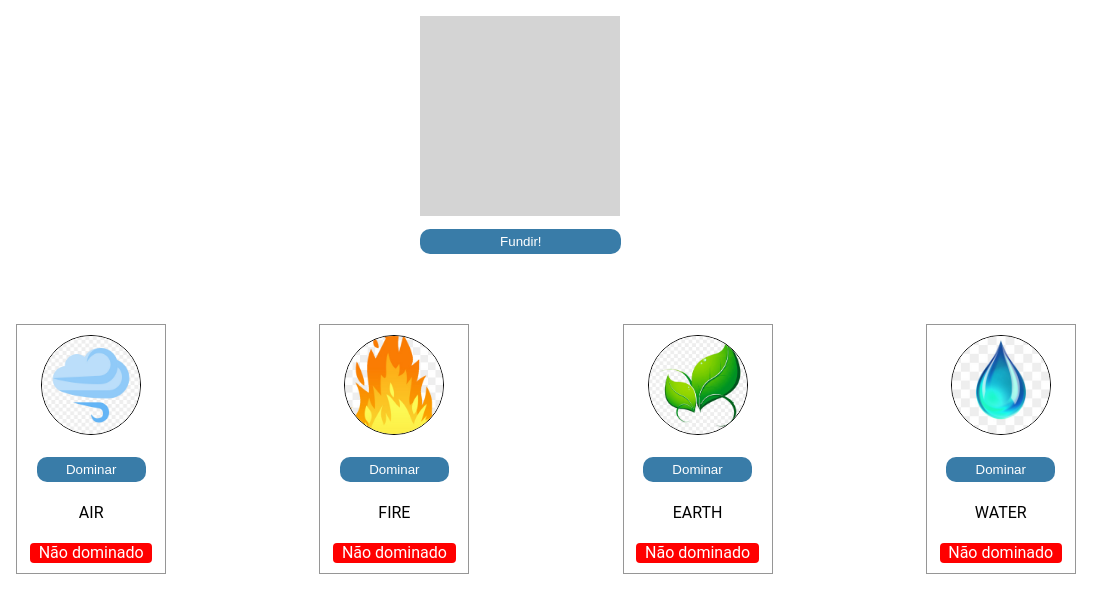
Test: Learn Button Test › Should change the two texts on click
Click the 1st button "Dominar".
click(92, 470)  # box [37, 457, 146, 482]
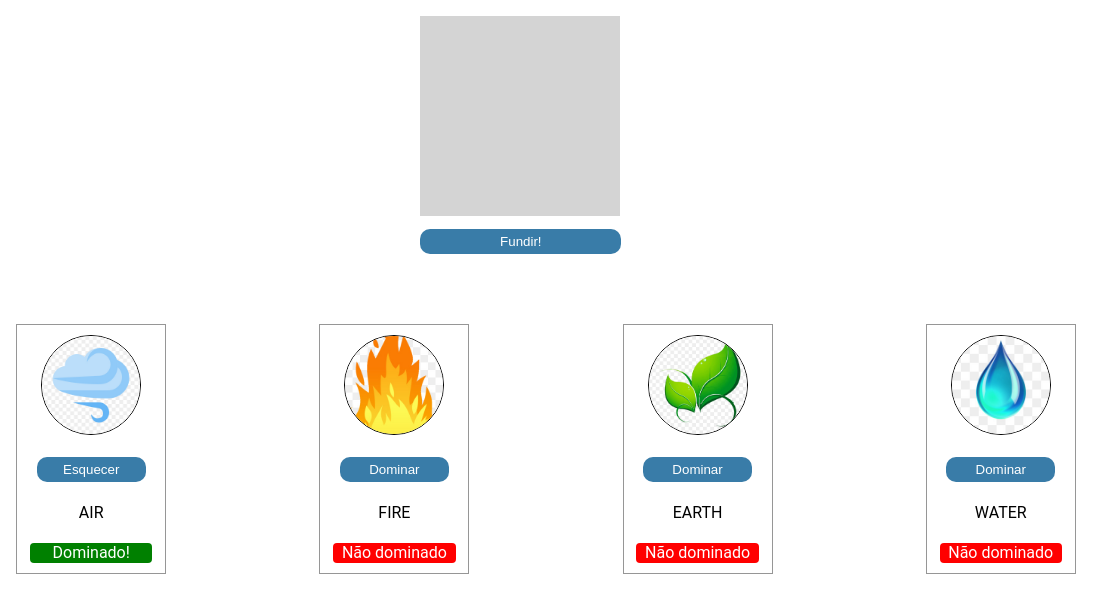
Expected: the text "Dominado" is shown, [53, 543, 130, 562]
Result: the button "Esquecer" is shown at [37, 457, 146, 482]
